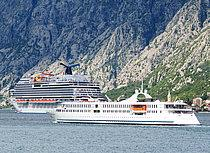Ship: (52, 92, 208, 130), (6, 60, 110, 117)
